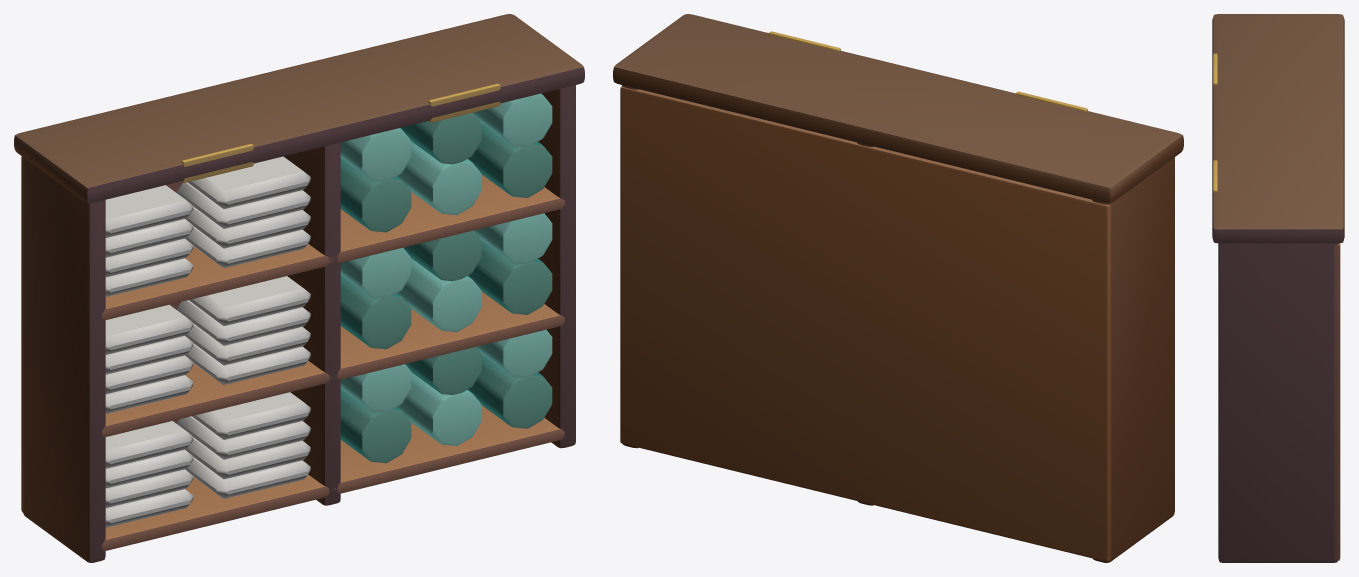
File: LinenShelf.fbx
3 renders of one model, left to right at view 1: azimuth 30°, elevation 25°; view 2: azimuth 150°, elevation 25°; view 3: azimuth 270°, elevation 25°, orthographic. The views are drawn at different scales.
Visible parts, largest first — view 1: SM_Station_LinenShelf; view 2: SM_Station_LinenShelf; view 3: SM_Station_LinenShelf.
Part boxes in pixels (left/top/right/bottom): SM_Station_LinenShelf: left=14, top=14, right=584, bottom=562; SM_Station_LinenShelf: left=613, top=14, right=1183, bottom=562; SM_Station_LinenShelf: left=1212, top=14, right=1344, bottom=562.
Bounding box in the file's own units: 8.5 × 6.23 × 2.2.
